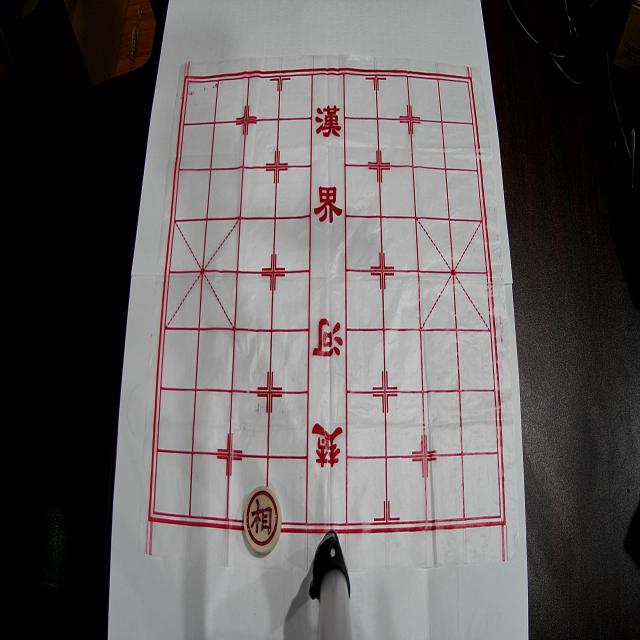red-elephant: (244, 486, 282, 554)
